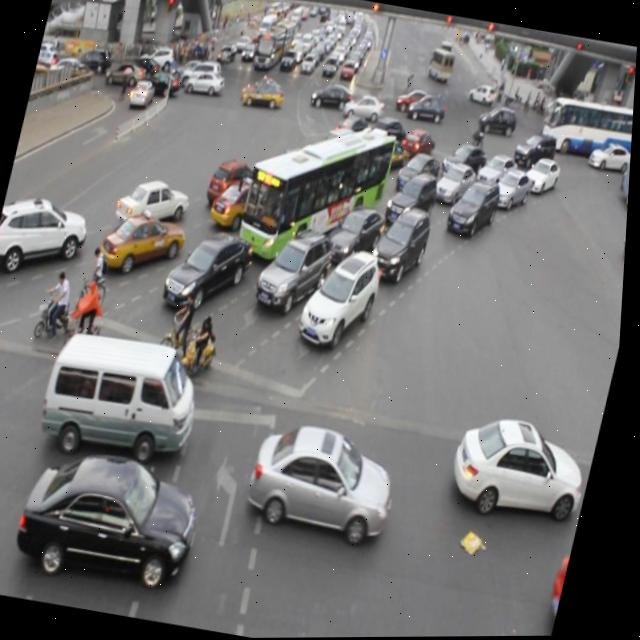car: (16, 440, 214, 587), (247, 416, 409, 539), (449, 410, 599, 524), (300, 243, 390, 349), (0, 189, 95, 279), (165, 227, 260, 313), (255, 222, 337, 314), (99, 207, 189, 277), (370, 201, 435, 283), (115, 174, 196, 232), (326, 203, 391, 267), (210, 174, 275, 233), (446, 176, 503, 239), (385, 169, 441, 229), (207, 157, 265, 213), (323, 151, 379, 199), (278, 167, 332, 214), (395, 148, 442, 198), (276, 146, 327, 192), (440, 140, 490, 186), (511, 131, 558, 177), (474, 150, 519, 198), (433, 161, 477, 209), (366, 131, 413, 173), (490, 167, 533, 212), (331, 110, 377, 151), (368, 115, 412, 157), (523, 154, 563, 195), (399, 125, 439, 165)
truck: (40, 324, 215, 465), (317, 124, 370, 173)
van: (234, 113, 398, 278)
